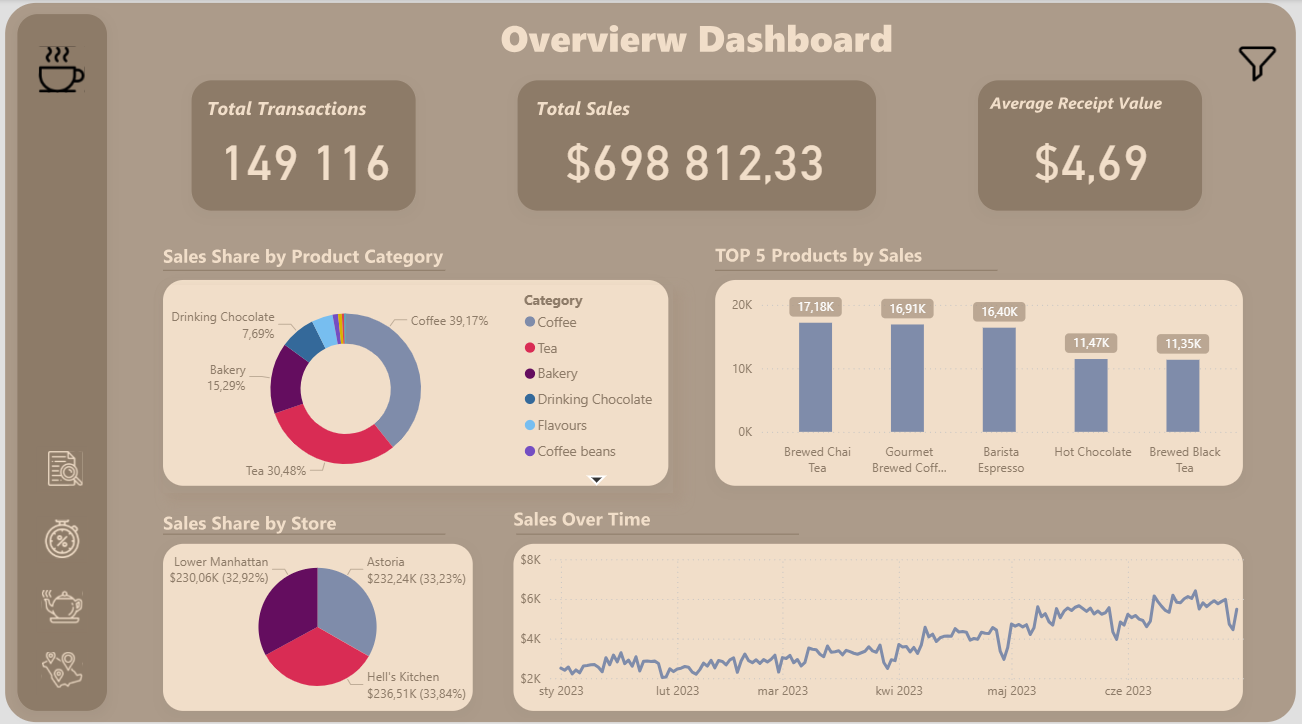

The dashboard page shown, as its layout file describes it:
{"tool":"powerbi","page":{"name":"Overview Dashboard","canvas":[1280,720],"ordinal":1},"visuals":[{"type":"group","id":"g1","title":"General Filters","box":[3.7,0,1276.2,718.6],"z":0},{"type":"card","title":"AVG Receipt Value","fields":{"Values":["Avg(Project.Total_Bill)"]},"box":[964.4,117.7,216,74.8],"z":0,"group":"g3"},{"type":"lineChart","title":"Sales Over Time","fields":{"Y":["Sum(Project.Total_Bill)"],"Category":["Project.transaction_date"]},"box":[506.7,536.2,737.4,160.7],"z":0,"group":"g4"},{"type":"actionButton","title":"Button L DB","box":[36.9,637.7,50,45.4],"z":0,"group":"g2"},{"type":"actionButton","title":"Button Filter","box":[1209.4,19.9,51,85.8],"z":1000,"group":"g1"},{"type":"card","title":"Total Sales","fields":{"Values":["Sum(Project.Total_Bill)"]},"box":[506.2,106.2,353.8,97.5],"z":1000,"group":"g3"},{"type":"group","id":"g2","title":"Ribbon Buttons","box":[36.9,439.2,50,243.8],"z":1000},{"type":"pieChart","title":"Sales Share by Store","fields":{"Category":["Project.store_location"],"Y":["Sum(Project.Total_Bill)"]},"box":[160.7,536.2,304.3,160.7],"z":1000,"group":"g4"},{"type":"actionButton","title":"Button P DB","box":[36.9,576.9,50,45.4],"z":1000,"group":"g2"},{"type":"group","id":"g3","title":"KPIs","box":[190,101.2,990.4,106.2],"z":2000},{"type":"card","title":"Total Transactions","fields":{"Values":["Count(Project.ID)"]},"box":[190,101.2,221.2,106.2],"z":2000,"group":"g3"},{"type":"lineStackedColumnComboChart","title":"Top 5 Products by Sales","fields":{"Y":["CountNonNull(Project.ID)"],"Category":["Project.product_type"]},"box":[705.5,281,517.8,195.1],"z":2000,"group":"g4"},{"type":"actionButton","title":"Button ST DB","box":[36.9,507.7,50,45.4],"z":2000,"group":"g2"},{"type":"group","id":"g4","title":"Visualizations","box":[160.7,272.4,1083.4,424.5],"z":3000},{"type":"donutChart","title":"Sales Share by Product Category","fields":{"Category":["Project.product_category"],"Y":["CountNonNull(Project.ID)"]},"box":[160.7,272.4,500.6,212.3],"z":3000,"group":"g4"},{"type":"actionButton","title":"Button OV DB","box":[36.9,439.2,50,45.4],"z":3000,"group":"g2"}]}

Visuals, with their boxes in screenshot pixels (x1, y1, x2, y2), scaled from the page's 1280x720 canvas onto the 1302x724 screenshot:
"General Filters" group: box=[4, 0, 1301, 723]
"AVG Receipt Value" card: box=[981, 118, 1201, 194]
"Sales Over Time" lineChart: box=[515, 539, 1265, 701]
"Button L DB" actionButton: box=[38, 641, 88, 687]
"Button Filter" actionButton: box=[1230, 20, 1282, 106]
"Total Sales" card: box=[515, 107, 875, 205]
"Ribbon Buttons" group: box=[38, 442, 88, 687]
"Sales Share by Store" pieChart: box=[163, 539, 473, 701]
"Button P DB" actionButton: box=[38, 580, 88, 626]
"KPIs" group: box=[193, 102, 1201, 209]
"Total Transactions" card: box=[193, 102, 418, 209]
"Top 5 Products by Sales" lineStackedColumnComboChart: box=[718, 283, 1244, 479]
"Button ST DB" actionButton: box=[38, 511, 88, 556]
"Visualizations" group: box=[163, 274, 1265, 701]
"Sales Share by Product Category" donutChart: box=[163, 274, 673, 487]
"Button OV DB" actionButton: box=[38, 442, 88, 487]
